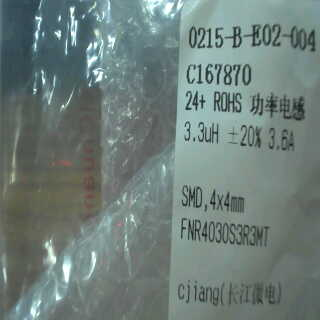3.3uH: (180, 119, 221, 145)
